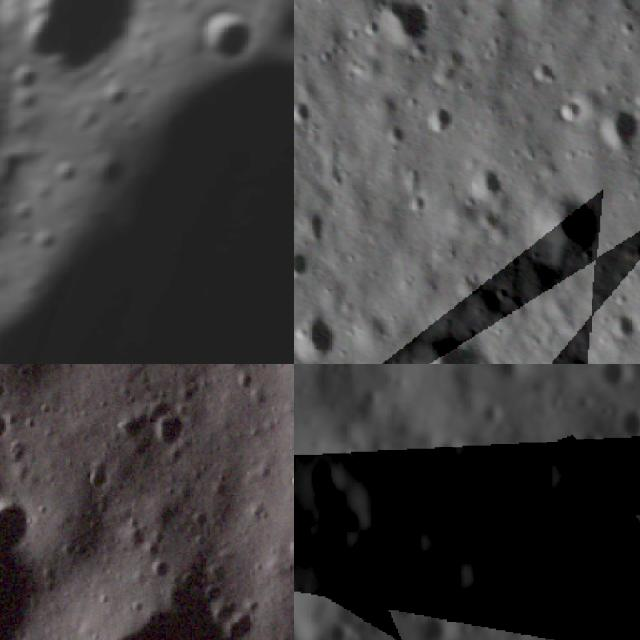crater: (0, 0, 170, 98), (294, 456, 391, 551), (0, 519, 70, 640), (190, 0, 271, 77), (529, 188, 602, 265), (506, 448, 572, 516), (373, 336, 510, 364), (589, 565, 640, 640), (427, 551, 488, 609), (0, 486, 48, 555), (12, 218, 74, 270), (377, 0, 440, 49), (388, 520, 442, 576), (578, 435, 632, 489), (294, 304, 340, 363), (591, 106, 640, 155), (0, 139, 38, 200), (590, 364, 640, 409), (430, 432, 475, 476), (465, 159, 511, 202), (481, 364, 536, 399), (40, 154, 85, 196), (403, 610, 466, 640), (468, 398, 512, 439), (608, 401, 640, 455), (496, 450, 536, 492), (151, 411, 189, 454), (572, 423, 610, 462), (147, 547, 180, 583), (120, 520, 152, 554), (494, 515, 526, 549), (315, 619, 366, 640), (557, 92, 585, 130), (425, 101, 454, 137), (82, 461, 111, 495), (528, 57, 559, 88), (6, 198, 34, 232), (401, 187, 429, 220), (606, 312, 634, 342), (294, 247, 315, 284), (383, 121, 411, 147), (358, 16, 382, 46), (0, 403, 13, 449), (294, 98, 315, 125), (564, 353, 593, 364)
